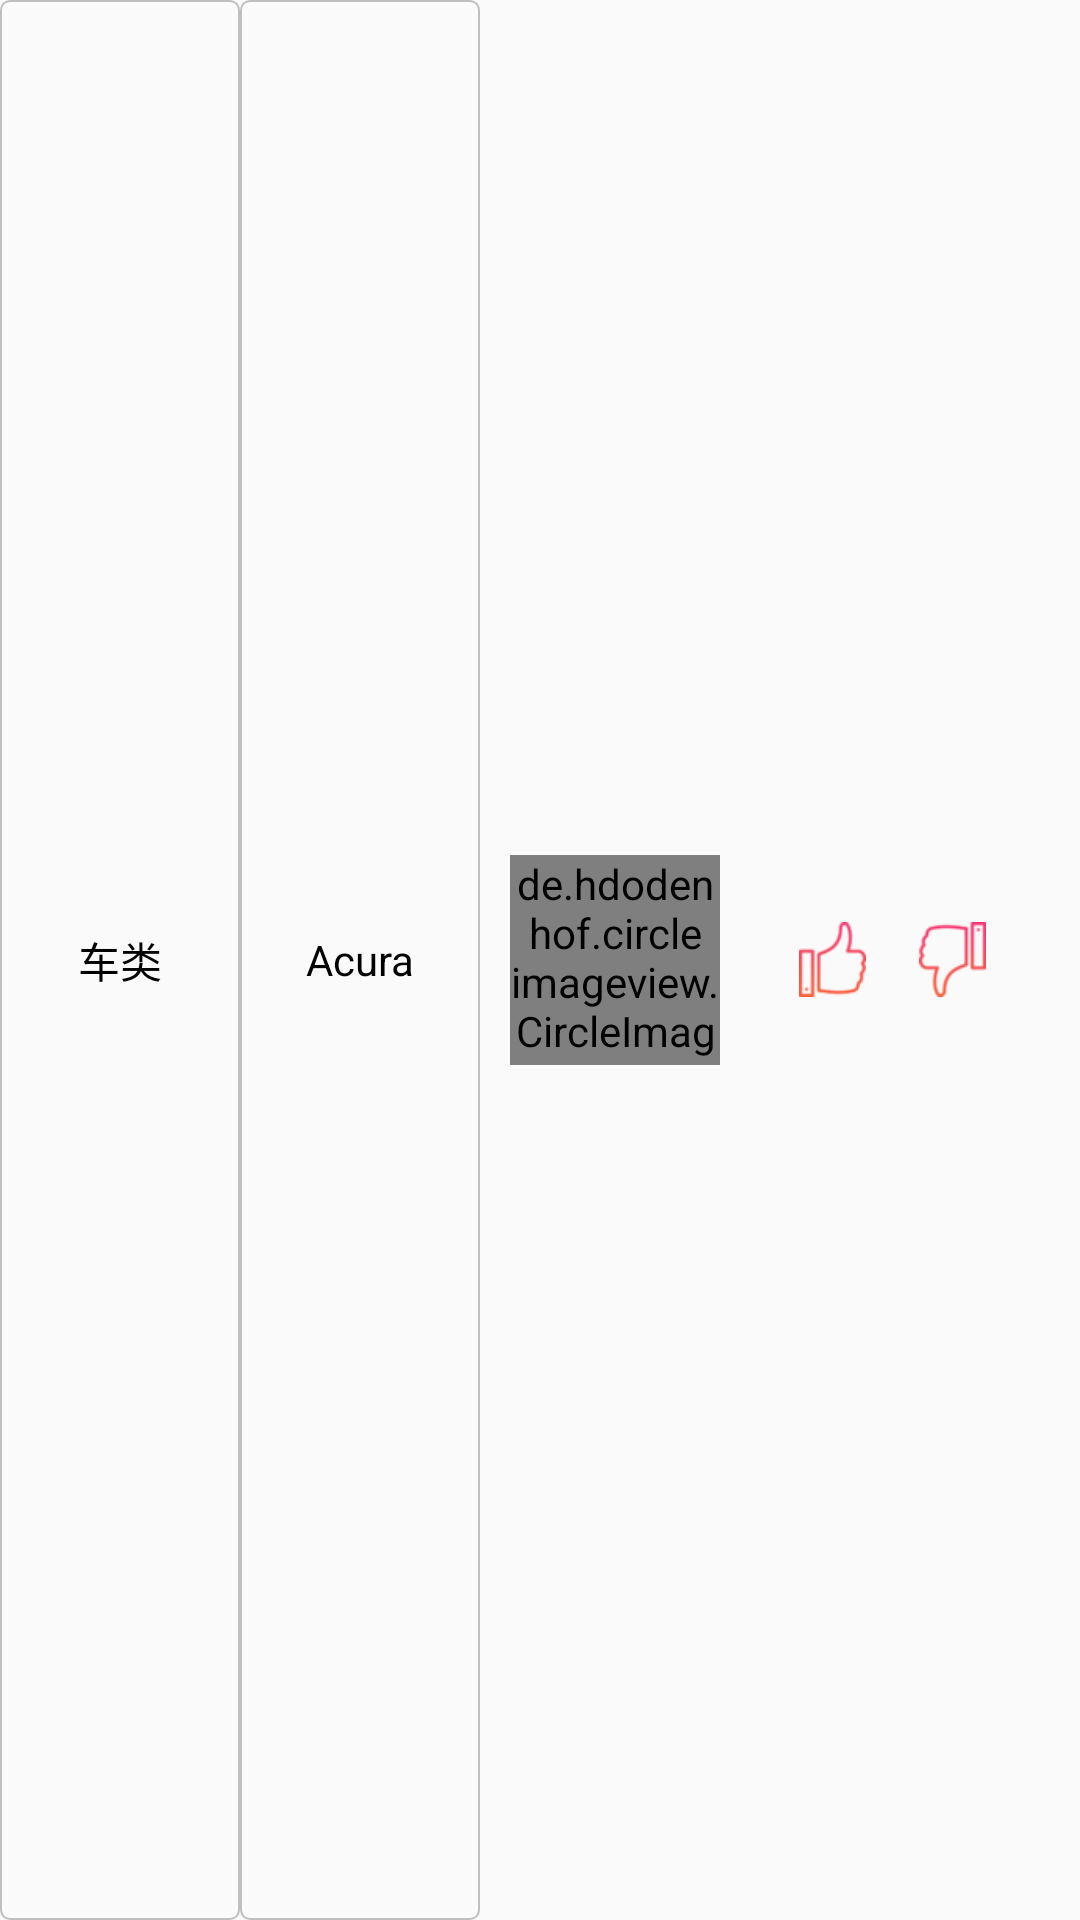

Icons on this 1080w x 1920h Android screen, each with the point to tap as point (x, y):
set like: point (832, 959)
set unlike: point (952, 959)
